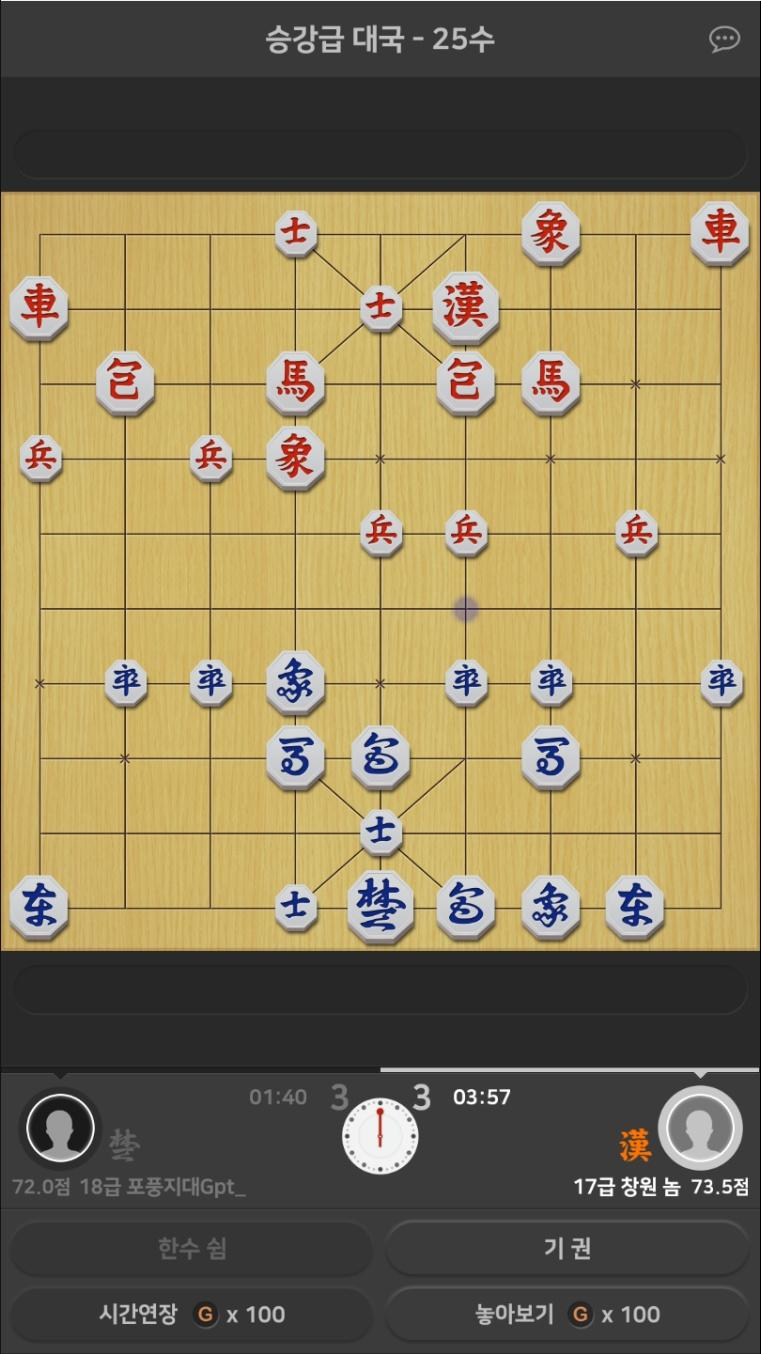cha_green: (605, 873, 668, 939), (8, 875, 68, 936)
cha_red: (7, 277, 70, 341), (689, 201, 752, 263)
jol_green: (699, 659, 746, 709), (101, 659, 152, 705), (187, 659, 234, 706), (530, 659, 577, 705), (445, 659, 490, 705)
jol_red: (359, 506, 405, 555), (614, 507, 660, 554), (445, 507, 490, 555), (21, 434, 62, 484), (189, 432, 230, 481)
ma_green: (266, 726, 329, 790), (519, 727, 582, 790)
ma_red: (263, 350, 325, 414), (523, 350, 582, 413)
po_green: (436, 876, 497, 938), (351, 727, 412, 786)
po_red: (436, 350, 497, 416), (96, 352, 157, 417)
sa_green: (275, 884, 317, 931), (359, 810, 402, 855)
sa_red: (274, 210, 318, 257), (360, 284, 400, 331)
sang_green: (520, 873, 580, 938), (270, 653, 325, 716)
sang_red: (521, 201, 582, 264), (268, 426, 324, 491)
wang_green: (346, 872, 416, 941)
wang_red: (432, 271, 502, 342)
